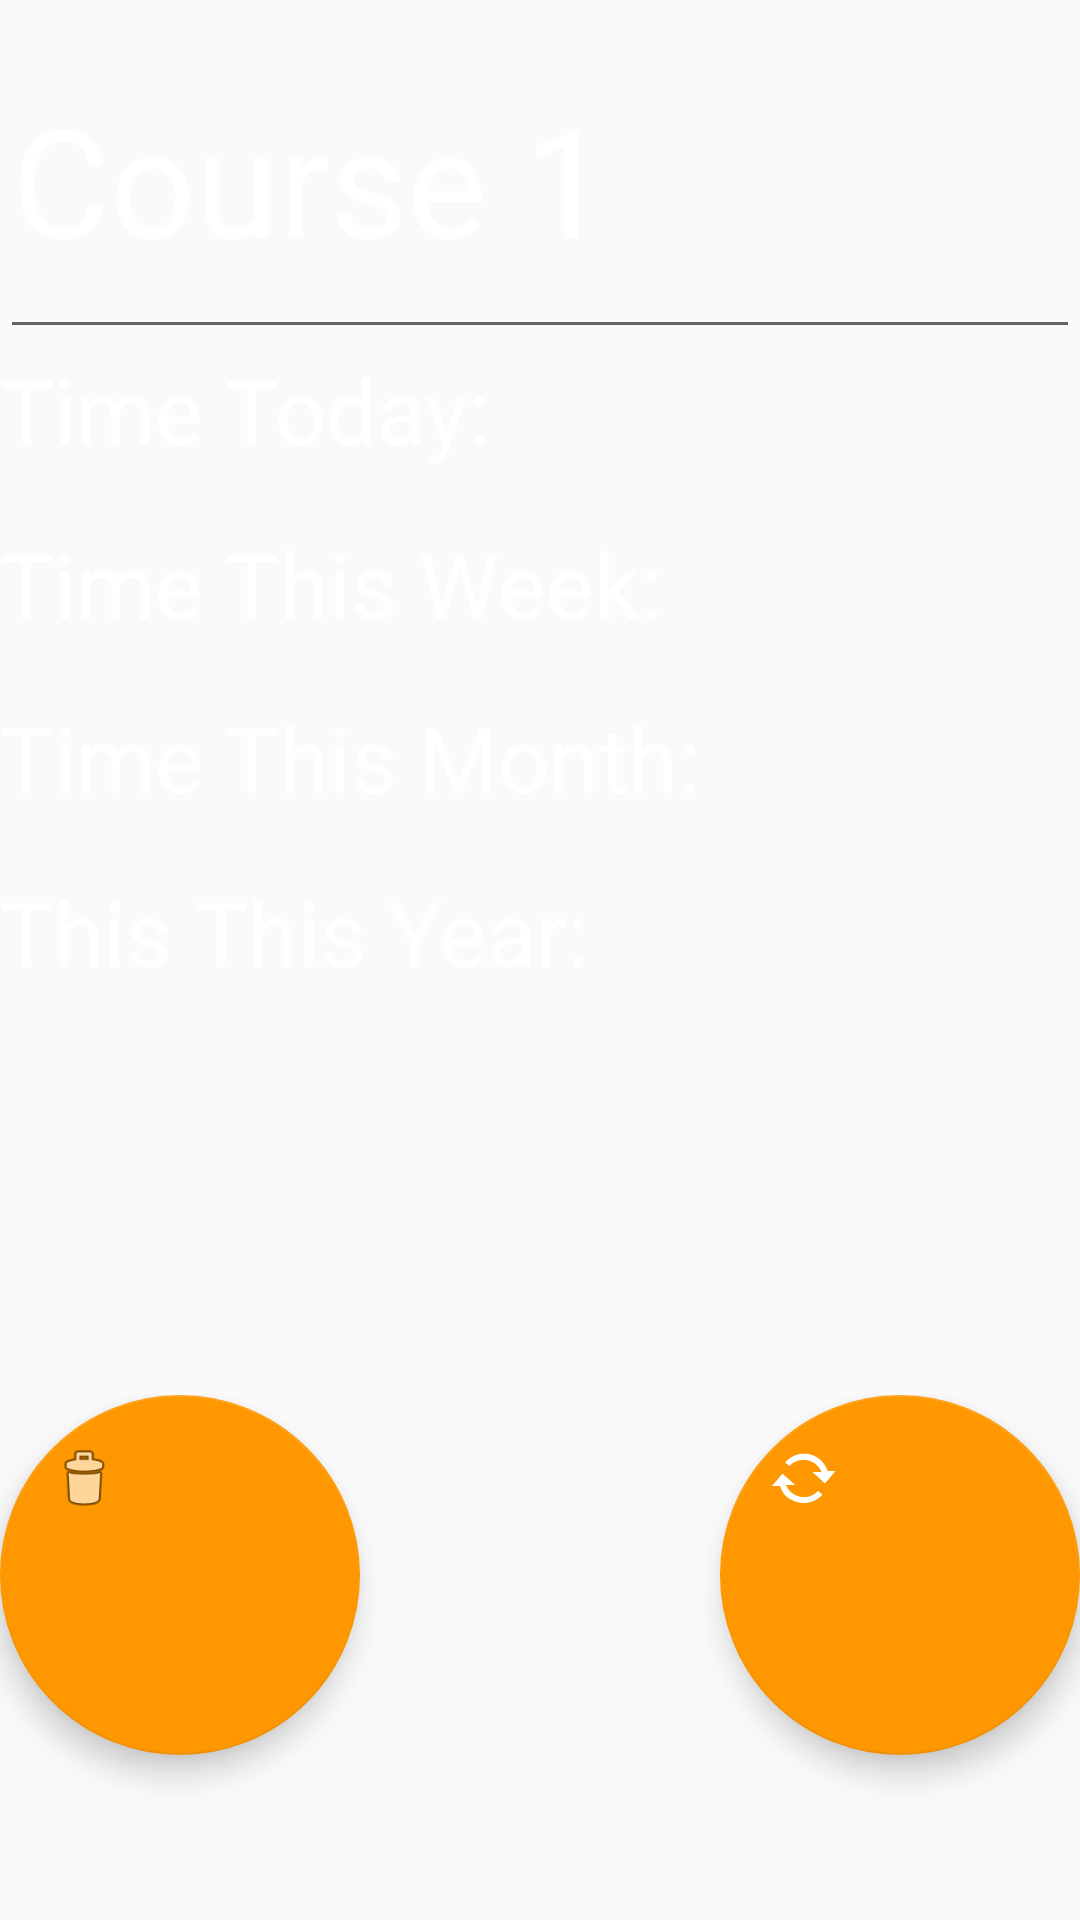

Icons on this 1080 × 1920 Android screen, each with its box as (left=x1, top=y1, right=x2, bottom=y2):
delete: (left=0, top=1395, right=360, bottom=1755)
sync: (left=720, top=1395, right=1080, bottom=1755)
